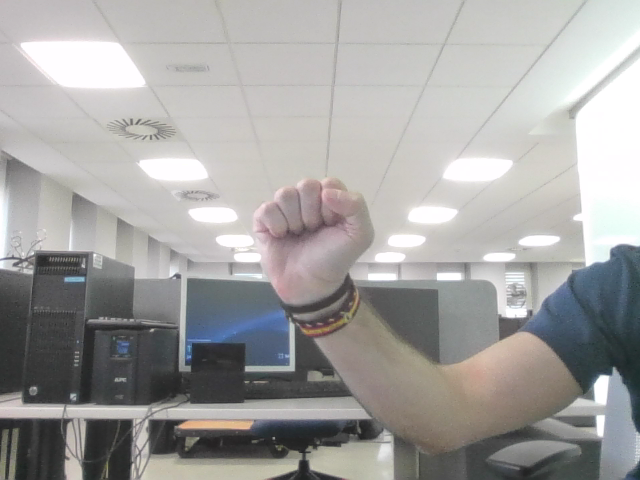Puño: (270, 184, 354, 265)
